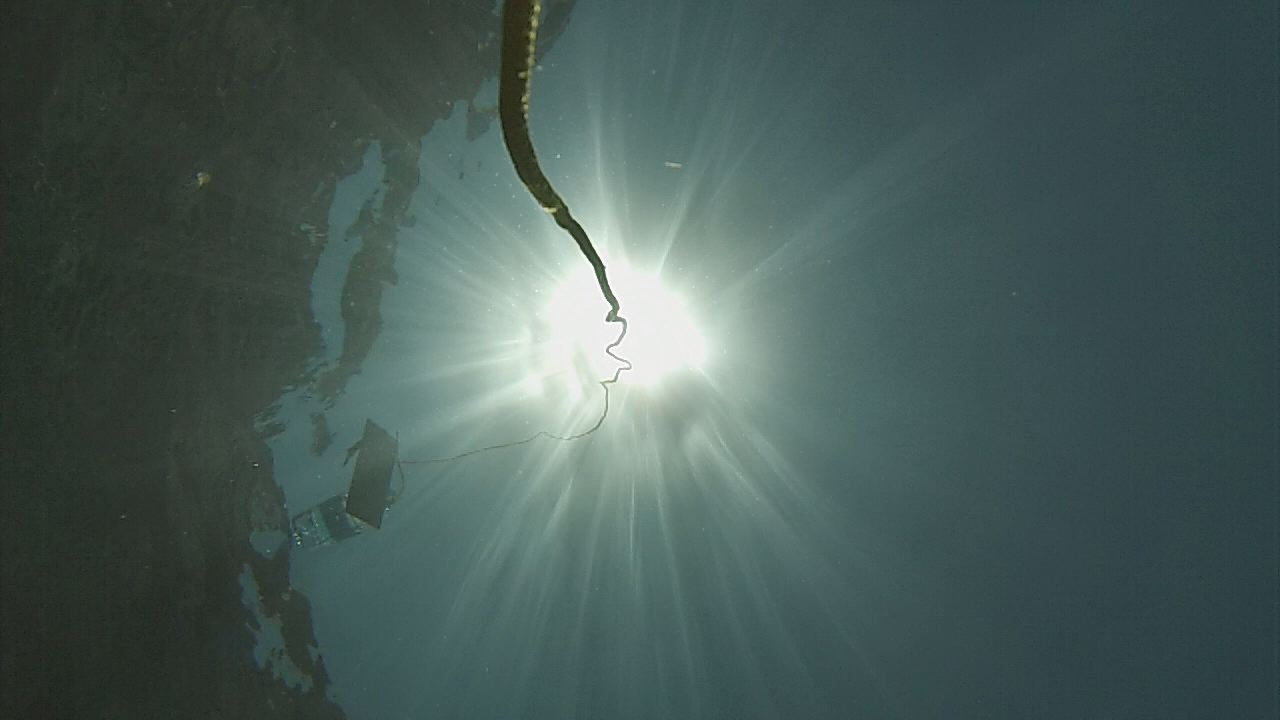pelagia: (185, 167, 216, 198)
